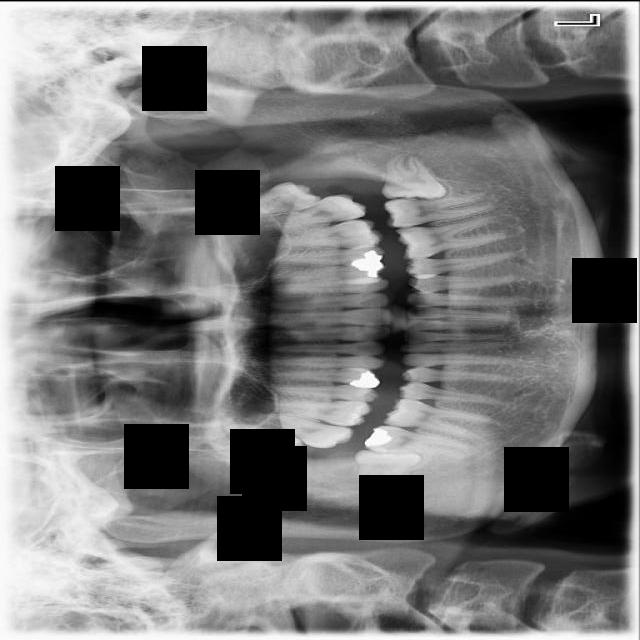3M ESPE Implant: (217, 415, 305, 465)
52: (364, 424, 411, 452), (344, 363, 383, 391), (344, 243, 386, 268), (342, 263, 385, 283)
73: (558, 60, 582, 65)
BioHorizons Implant: (236, 190, 368, 234)
BioLife Implant: (214, 177, 322, 221)
Biomet 3i Implant: (381, 150, 450, 202)
Blue Sky Bio Implant: (382, 185, 495, 230)
Caries: (238, 405, 354, 454)
Implant: (363, 422, 470, 459)
Keystone Dental Implant: (353, 442, 425, 489)
